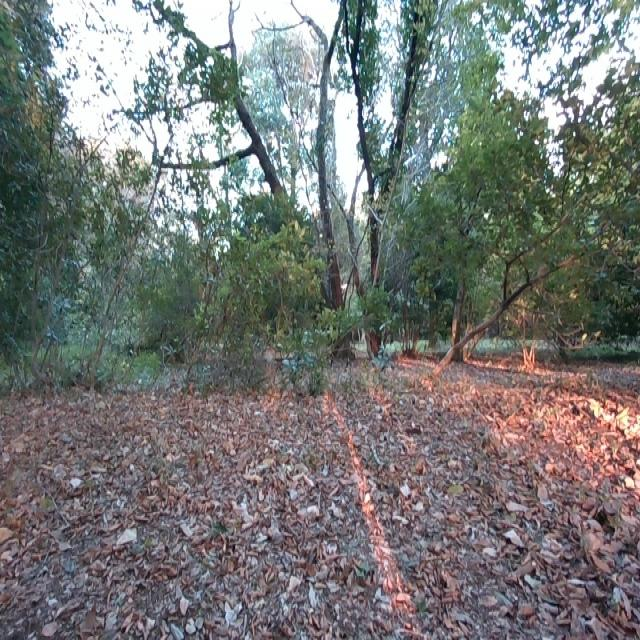bush: (0, 0, 131, 383), (144, 202, 345, 380)
tree: (223, 0, 366, 357), (356, 0, 421, 363), (439, 172, 548, 362)
